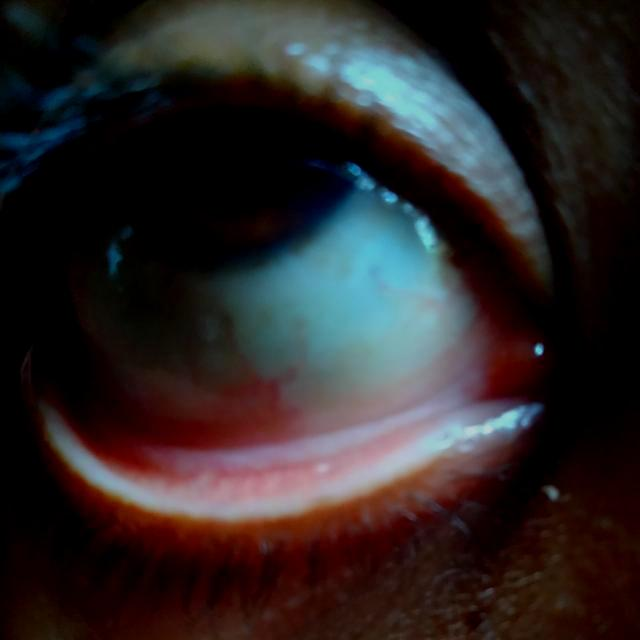conjunctiva_pallor: (52, 347, 484, 498)
